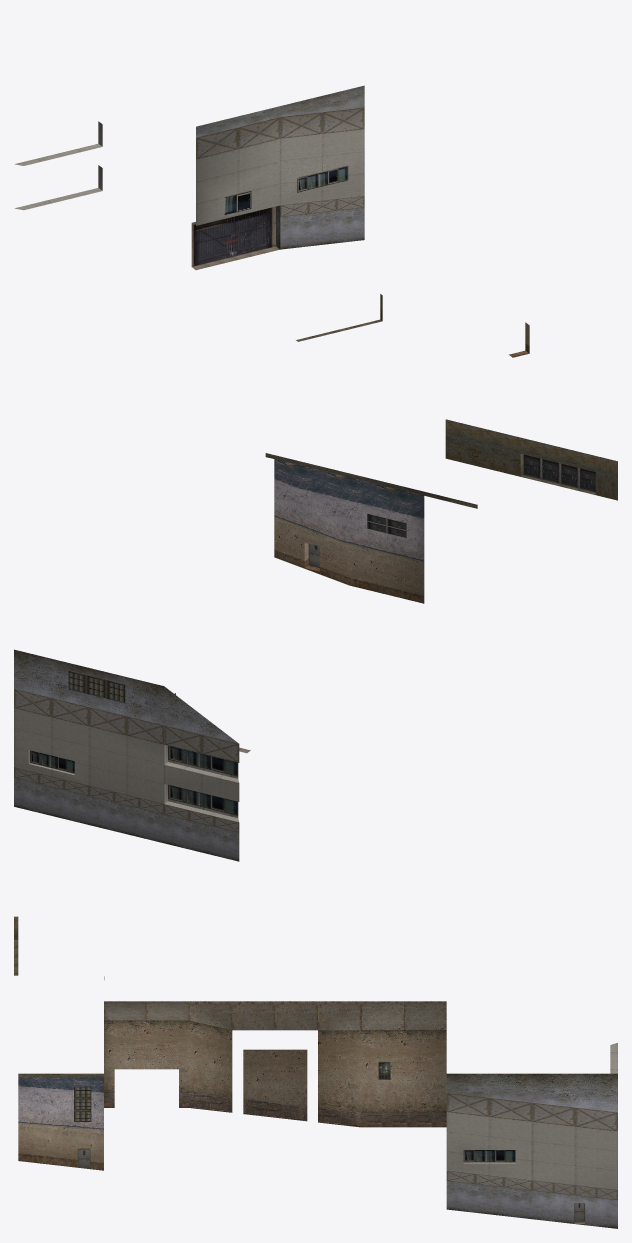
Rendered from M11Z1_Building02_B.glb.
3 renders of one model, top to bottom at view 1: azimuth 30°, elevation 25°; view 2: azimuth 150°, elevation 25°; view 3: azimuth 270°, elevation 25°, orthographic. The views are drawn at different scales.
Parts seen in each view (by area): view 1: M11Z1_BUILDING02_B; view 2: M11Z1_BUILDING02_B; view 3: M11Z1_BUILDING02_B.
Boxes of the visible parts, x1,y1,x2,y2 form: M11Z1_BUILDING02_B: (14,85,529,357); M11Z1_BUILDING02_B: (14,419,617,861); M11Z1_BUILDING02_B: (14,916,617,1228).
Bounding box in the file's own units: 32.9 × 20 × 56.4.
Materials: 15 (15 with a texture image).
